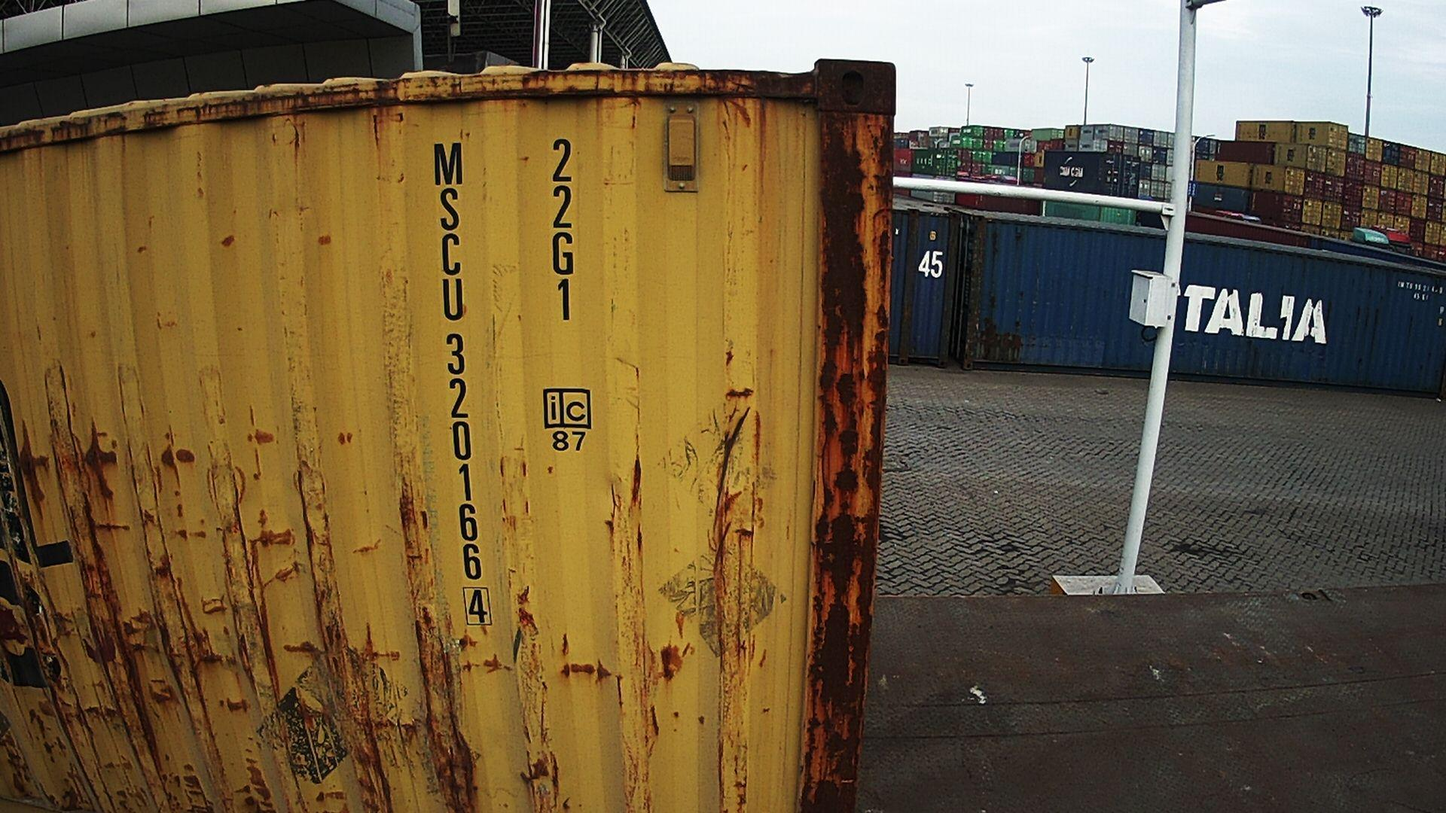container-numbers: (428, 139, 495, 631), (544, 133, 583, 324)
